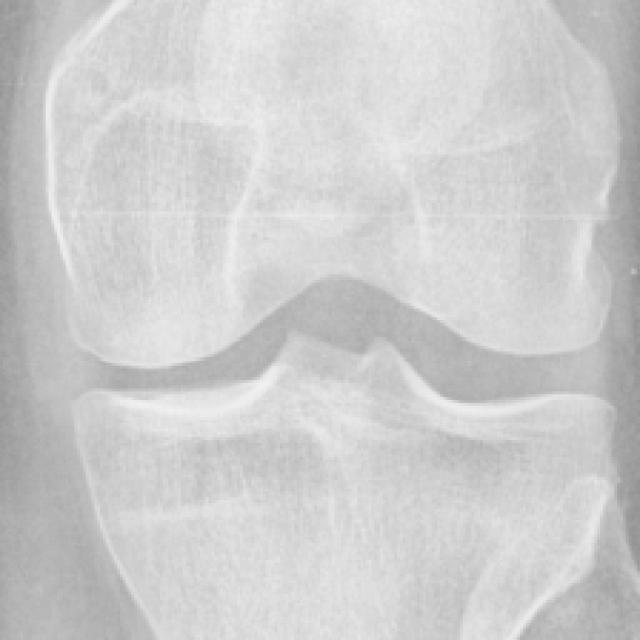femur: (43, 0, 619, 370)
tibia: (71, 333, 615, 640)
